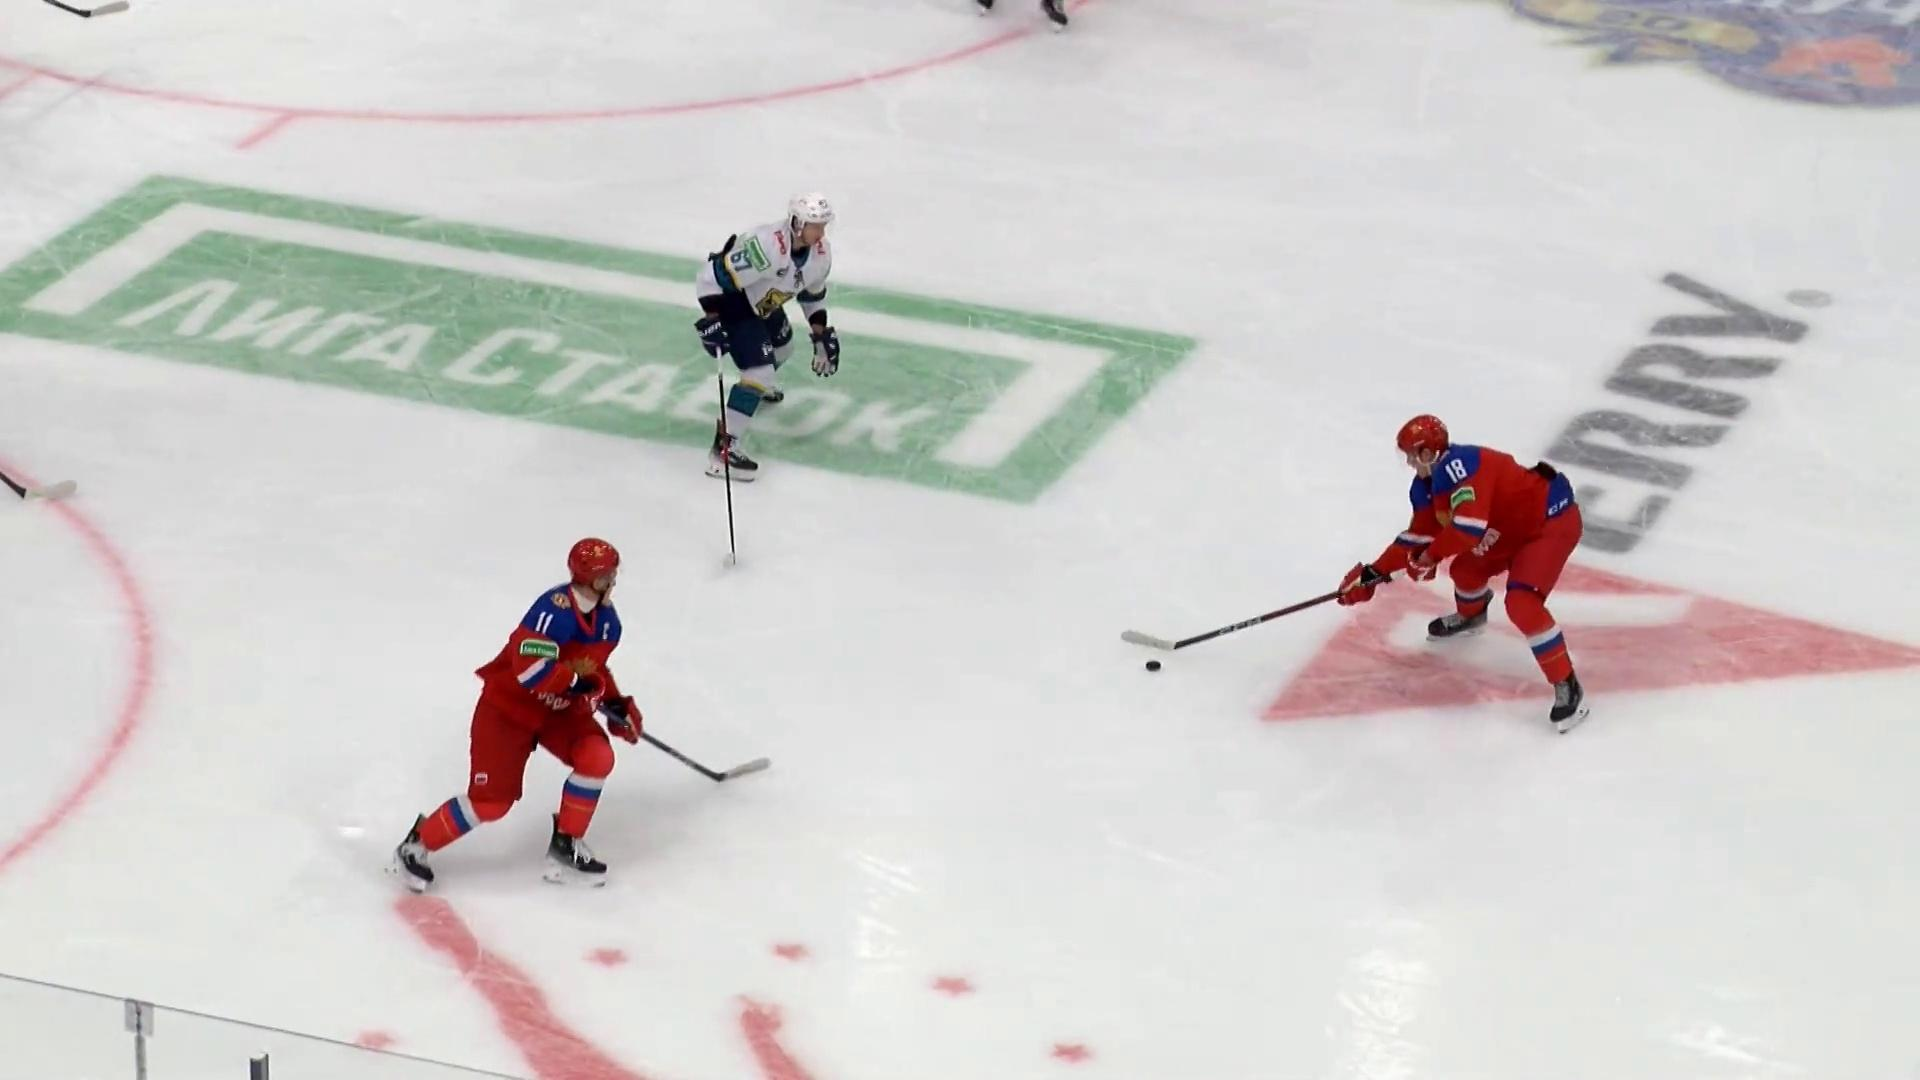ball: (1145, 661, 1162, 673)
